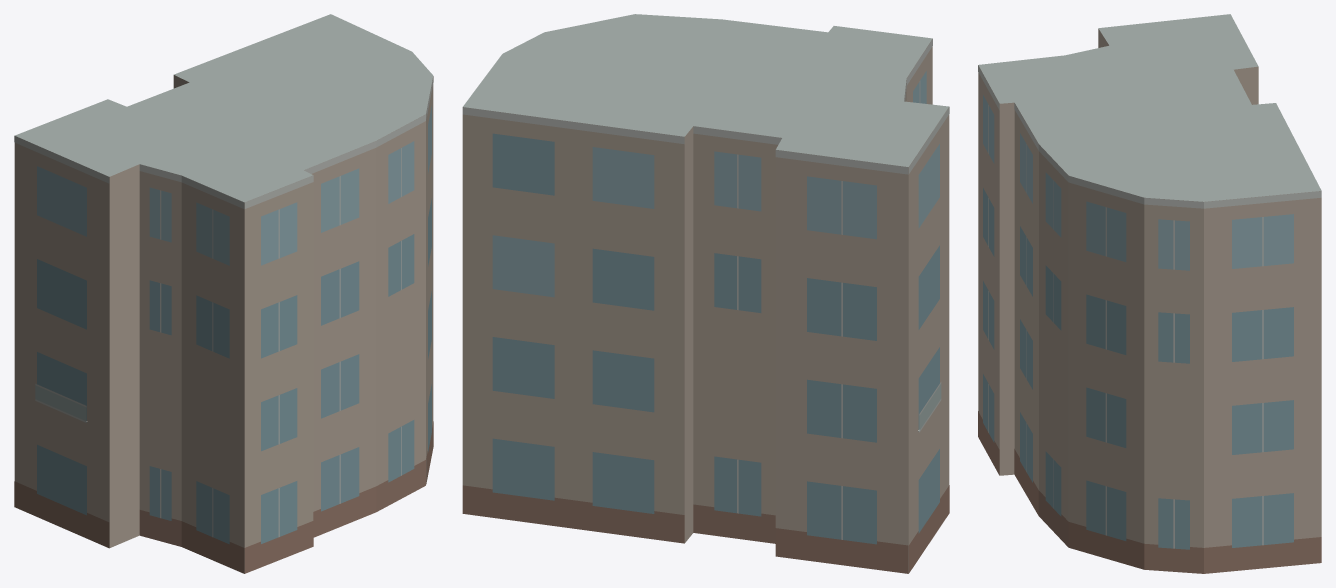
Rendered from survey-upis-32993332.glb.
3 views of the same model, side by side, from view 1: azimuth 30°, elevation 25°; view 2: azimuth 150°, elevation 25°; view 3: azimuth 270°, elevation 25° (orthographic). The views are drawn at different scales.
Parts seen in each view (by area): view 1: survey-upis-32993332.tmp; view 2: survey-upis-32993332.tmp; view 3: survey-upis-32993332.tmp.
Boxes of the visible parts, x1,y1,x2,y2 form: survey-upis-32993332.tmp: (14, 14, 433, 573); survey-upis-32993332.tmp: (462, 14, 949, 573); survey-upis-32993332.tmp: (978, 14, 1321, 573).
Size of the model in its own units: 14.36 by 13.25 by 11.1.
